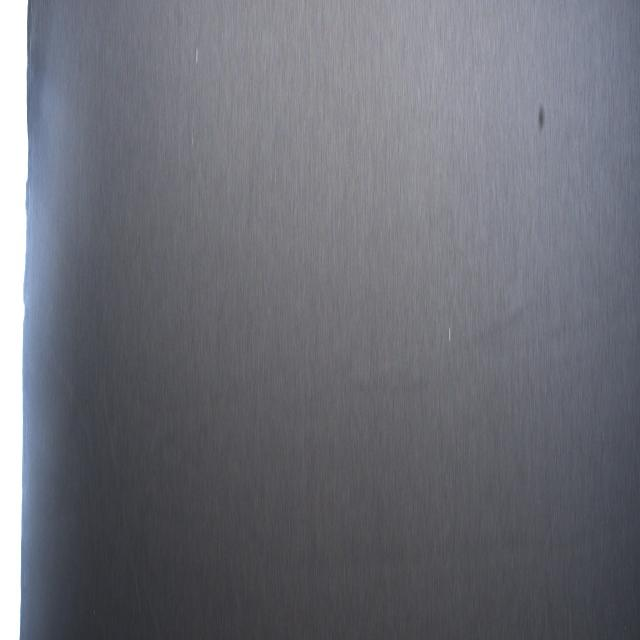crease: (344, 274, 554, 421), (96, 368, 149, 630), (538, 472, 570, 640)
whiteDefect: (195, 39, 200, 71)
